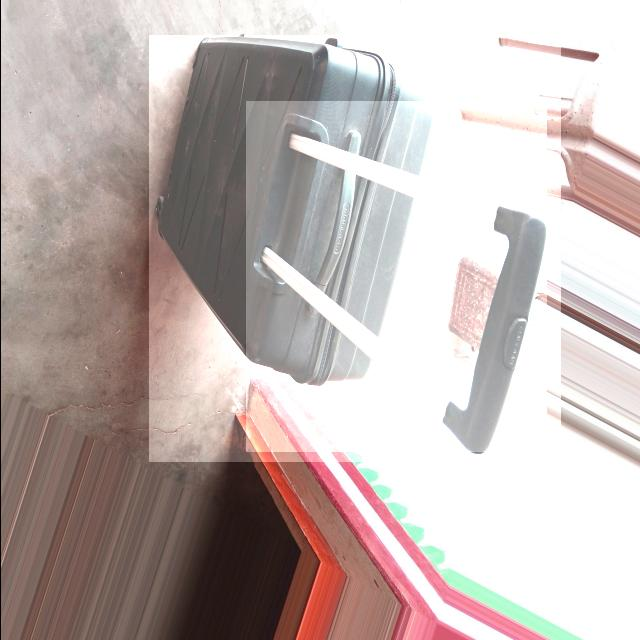Bag: (149, 26, 555, 458)
Handle: (260, 122, 558, 457)
